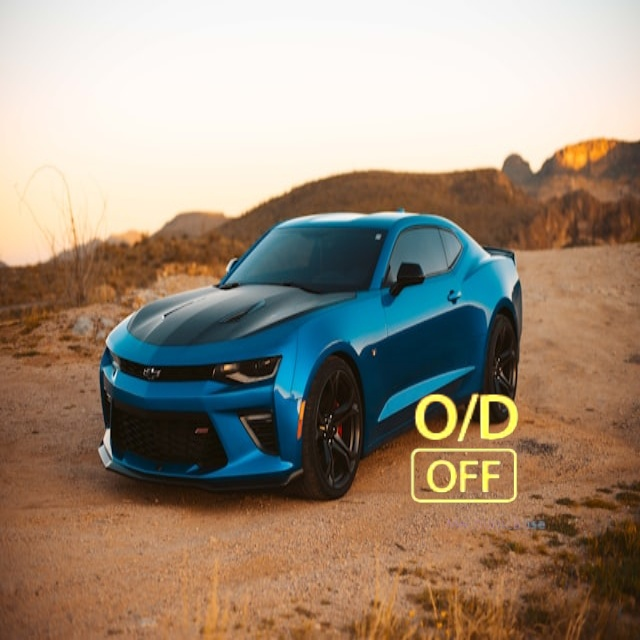symbol: (377, 363, 552, 538)
